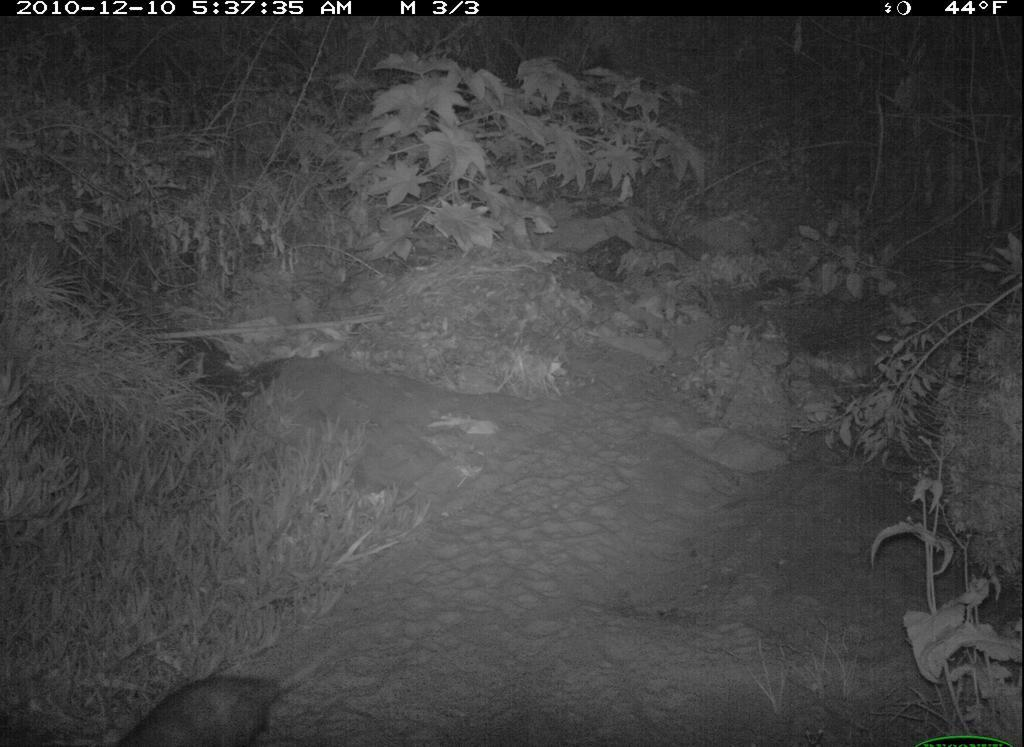opossum: (80, 660, 332, 747)
